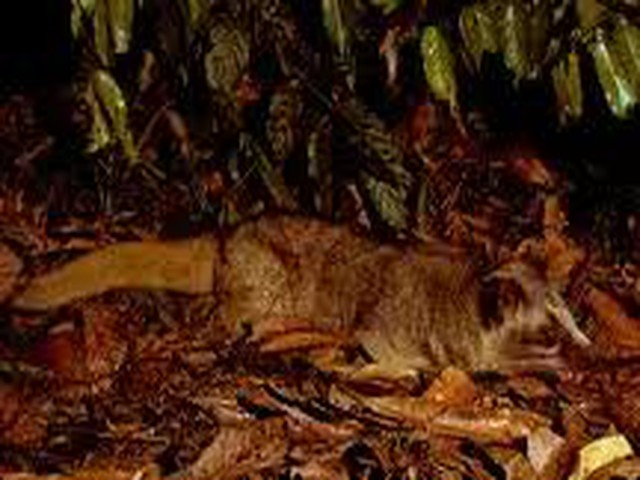civet: (22, 205, 571, 370)
